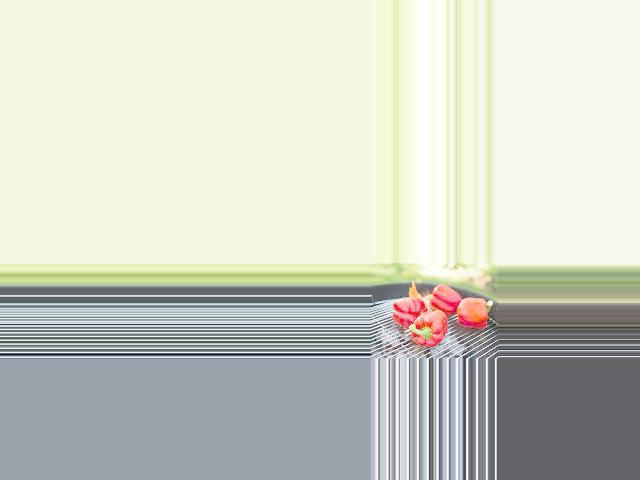bell_pepper: (391, 295, 427, 326)
